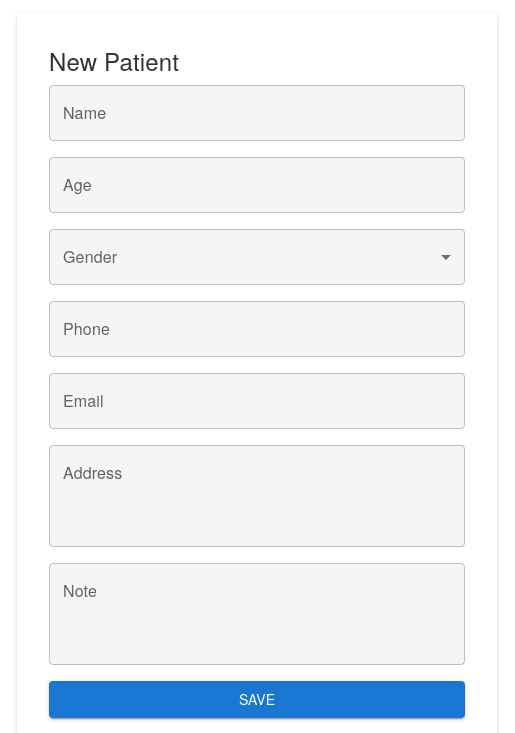
RegisterPatientPage › surfaces a failure banner when the request cannot reach the server
The width and height of the screenshot is (515, 733).
Step 1. Type "Jane Doe" into the field labelled "Name" → (257, 113), box x1=49 y1=85 x2=465 y2=141
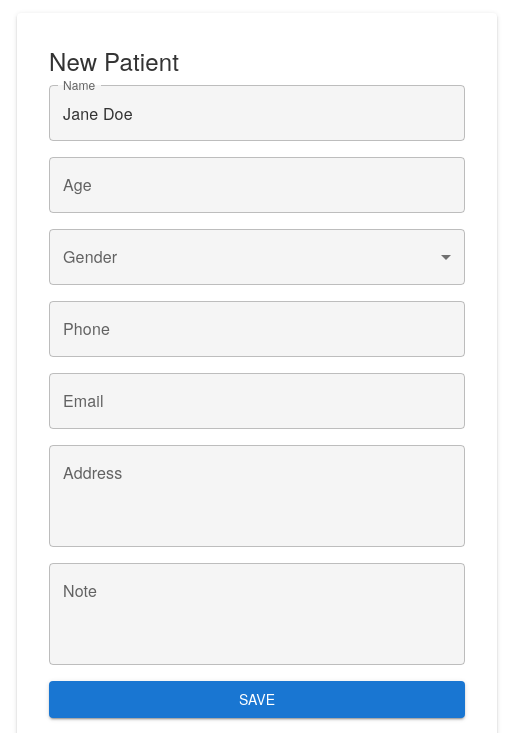
Step 2. Type "30" into the number field labelled "Age" → (257, 185), box x1=49 y1=157 x2=465 y2=213
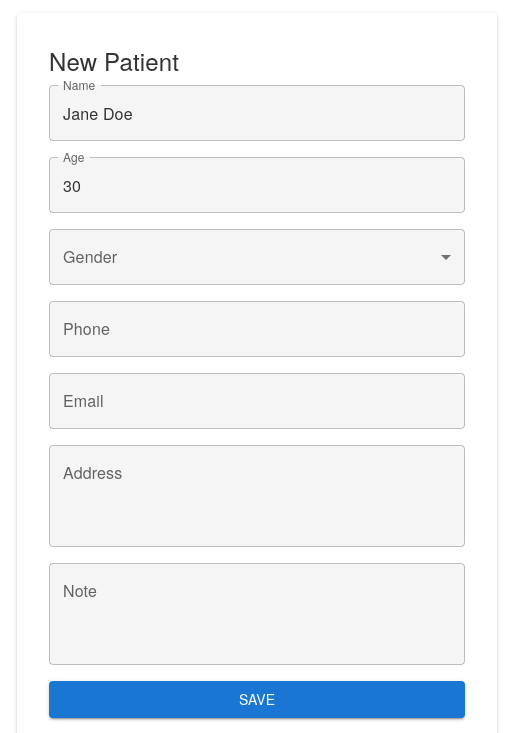
Step 3. Click the button "Save" → (257, 700), box x1=49 y1=681 x2=465 y2=718
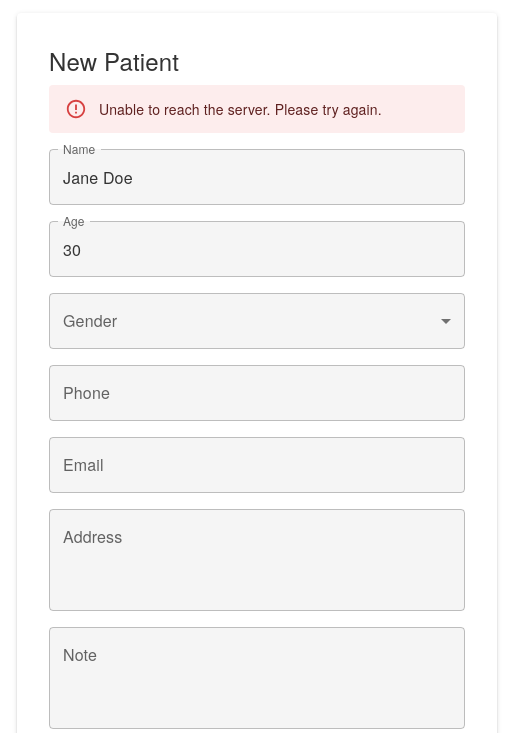
Now the text "Unable to reach the server. Please try again." is shown, box x1=99 y1=99 x2=382 y2=119
